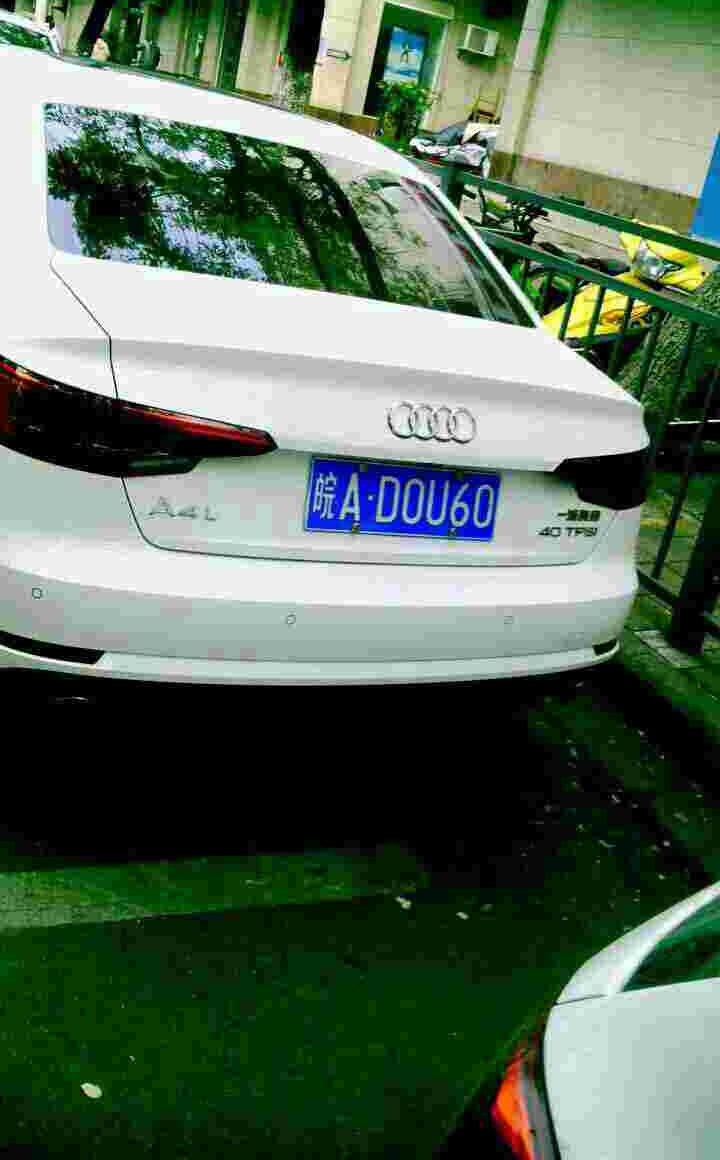license_plate: (309, 463, 495, 542)
